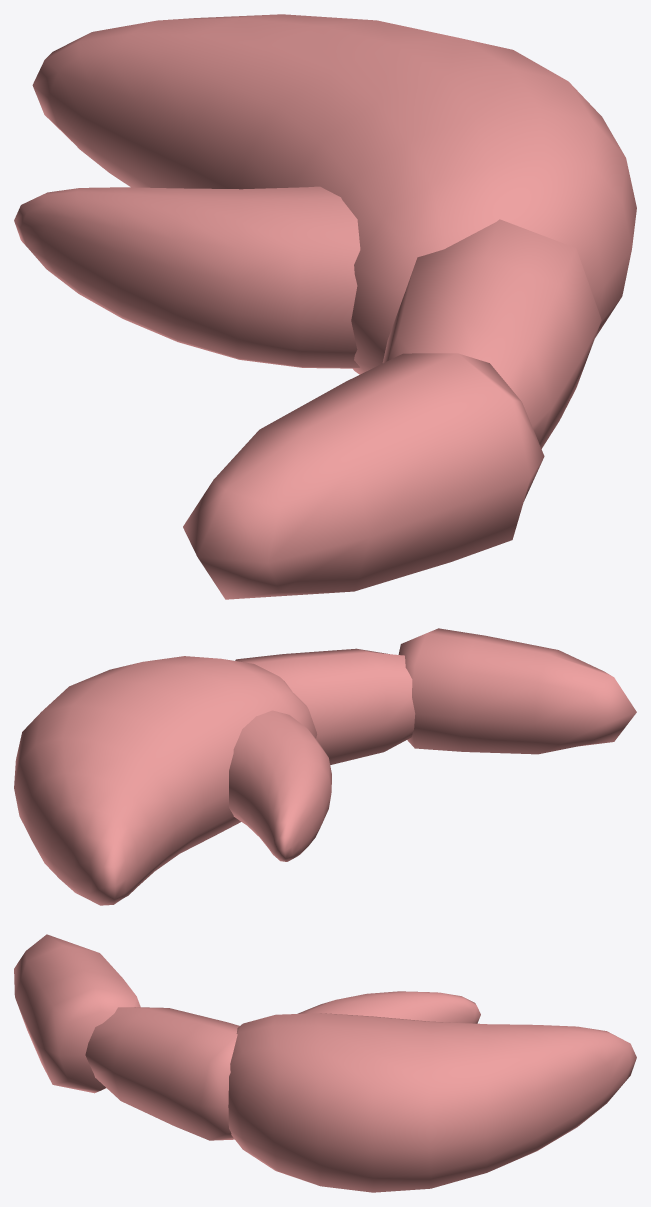
Rendered from Lobster_Claw_1_Peeled_1.fbx.
The picture shows the model from 3 angles, top to bottom: view 1: azimuth 30°, elevation 25°; view 2: azimuth 150°, elevation 25°; view 3: azimuth 270°, elevation 25°; orthographic projection. The views are drawn at different scales.
Parts seen in each view (by area): view 1: Lobster_Claw_1_Peeled_1; view 2: Lobster_Claw_1_Peeled_1; view 3: Lobster_Claw_1_Peeled_1.
Boxes of the visible parts, bbox=[...] form: Lobster_Claw_1_Peeled_1: bbox=[14, 14, 636, 599]; Lobster_Claw_1_Peeled_1: bbox=[14, 628, 636, 905]; Lobster_Claw_1_Peeled_1: bbox=[14, 934, 636, 1192].
Size of the model in its own units: 17.33 by 6.11 by 23.35.
